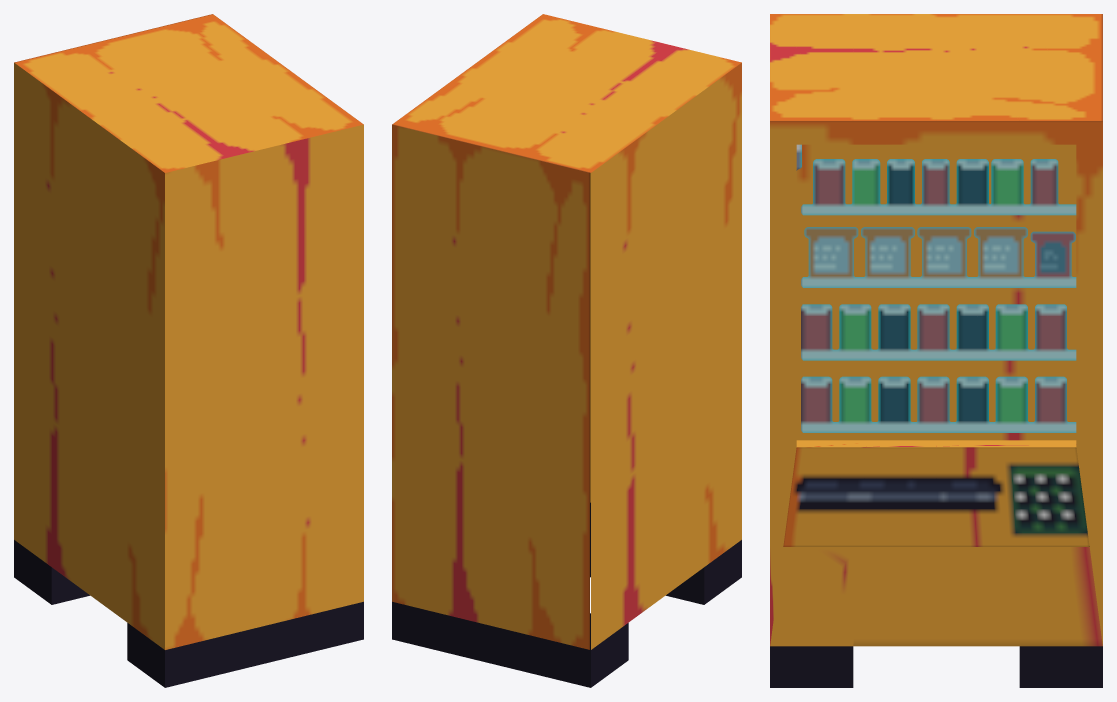
File: MaquinaRefrigerante.fbx
3 renders of one model, left to right at view 1: azimuth 30°, elevation 25°; view 2: azimuth 150°, elevation 25°; view 3: azimuth 270°, elevation 25°, orthographic. The views are drawn at different scales.
Visible parts, largest first — view 1: máquina; view 2: máquina; view 3: máquina.
Boxes of the visible parts, bbox=[...] form: máquina: bbox=[14, 14, 363, 687]; máquina: bbox=[392, 14, 741, 687]; máquina: bbox=[770, 14, 1102, 687].
Bounding box in the file's own units: 97.96 × 129 × 242.
